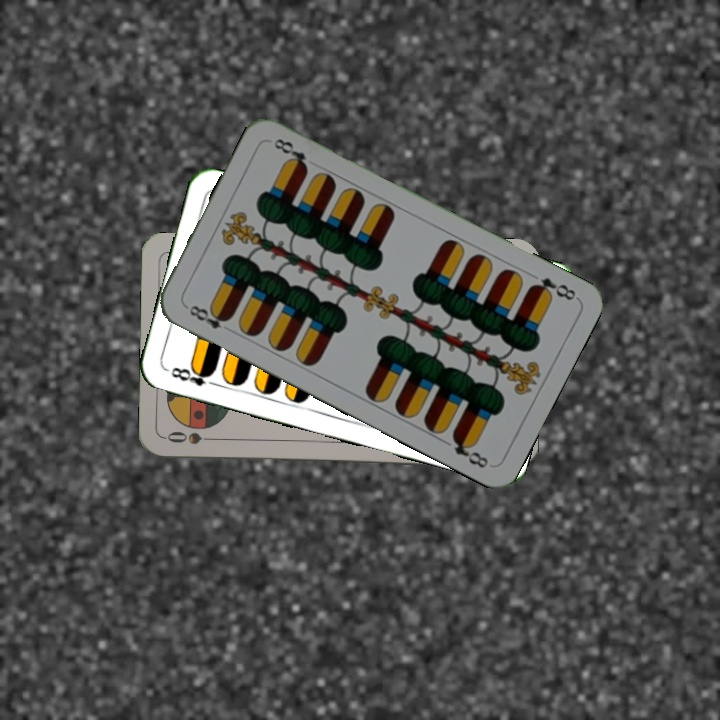E8: (525, 273, 579, 304), (181, 301, 234, 332), (167, 362, 221, 389)
SO: (163, 427, 222, 447)
